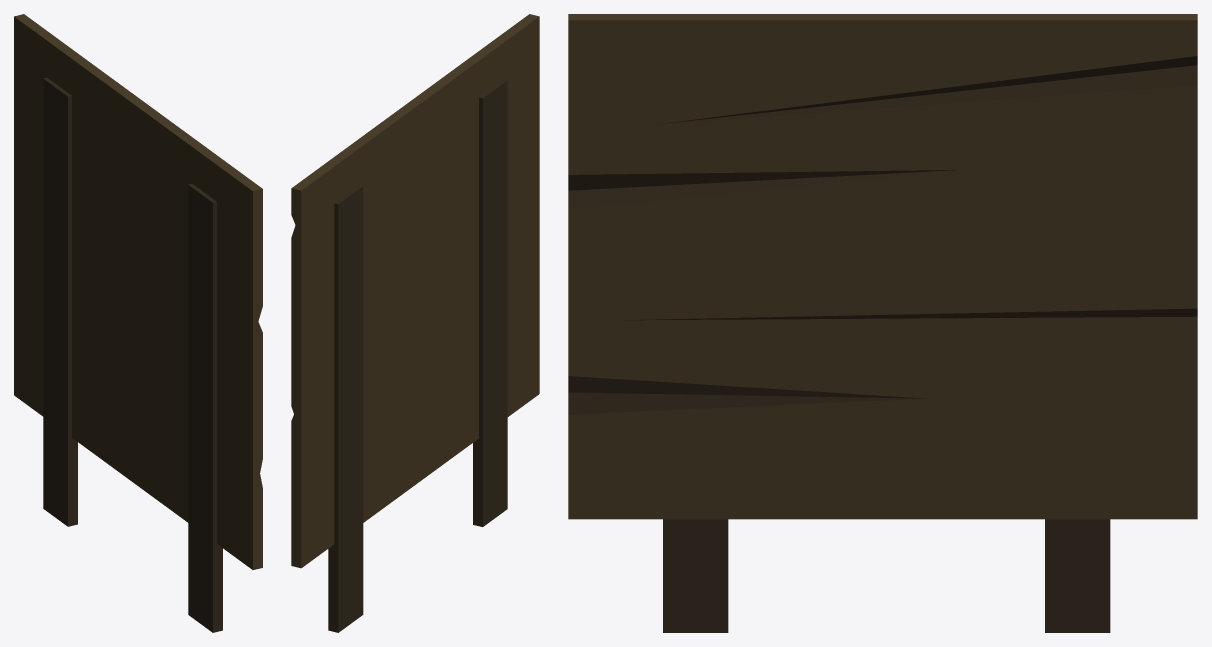
File: QuestionSign.fbx
The picture shows the model from 3 angles, left to right: view 1: azimuth 30°, elevation 25°; view 2: azimuth 150°, elevation 25°; view 3: azimuth 270°, elevation 25°; orthographic projection. The views are drawn at different scales.
Parts seen in each view (by area): view 1: QuestionSign; view 2: QuestionSign; view 3: QuestionSign.
Boxes of the visible parts, x1,y1,x2,y2 form: QuestionSign: (14, 14, 262, 632); QuestionSign: (291, 14, 539, 632); QuestionSign: (568, 14, 1197, 632).
Size of the model in its own units: 6.81 by 217 by 201.
